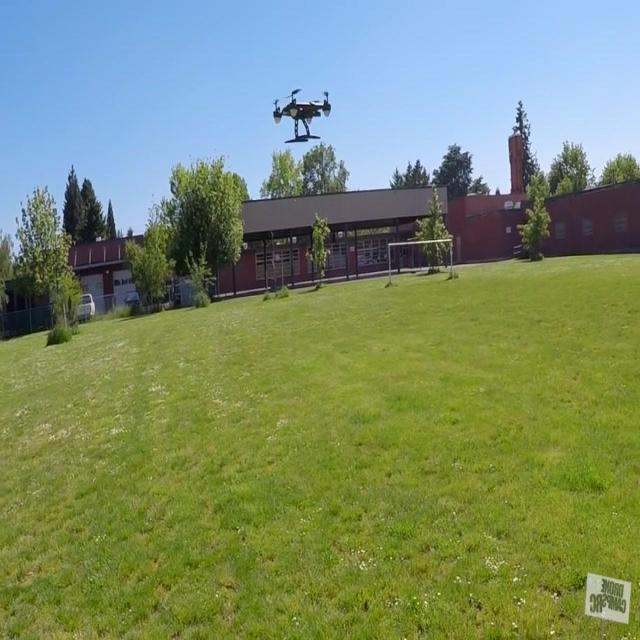drone: (269, 84, 333, 150)
